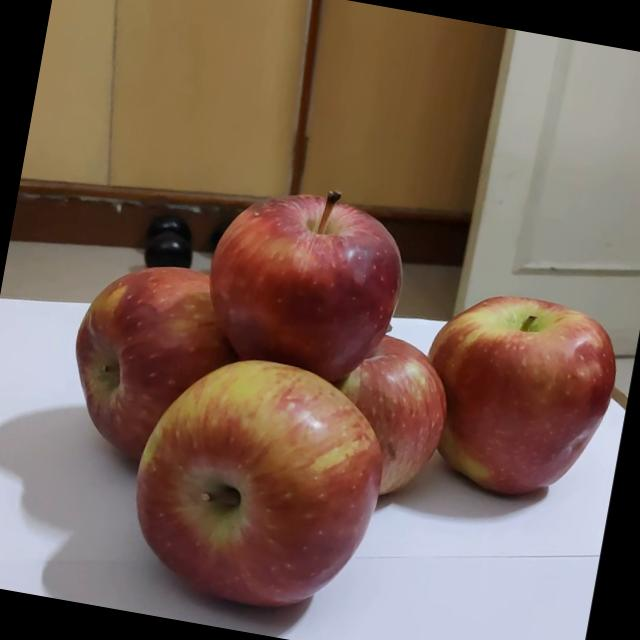apple: (128, 336, 418, 630), (336, 258, 631, 520), (59, 250, 293, 493), (194, 151, 420, 382)
